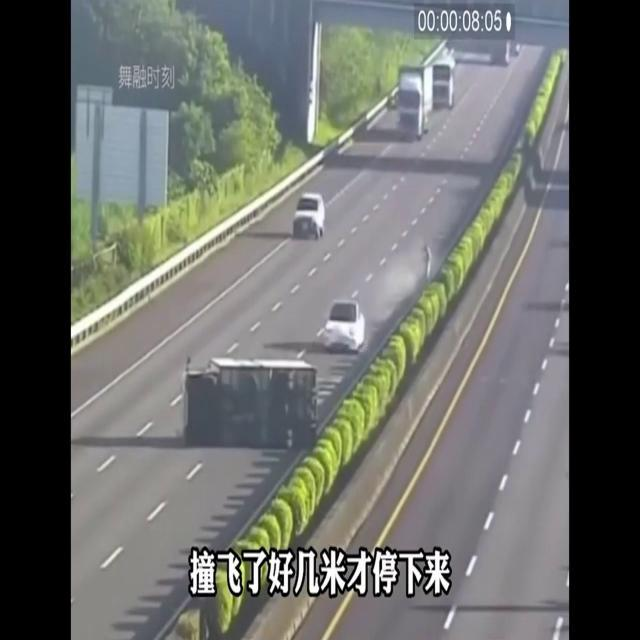normal: (322, 296, 373, 354), (285, 182, 329, 246)
single accident: (157, 325, 330, 479)
